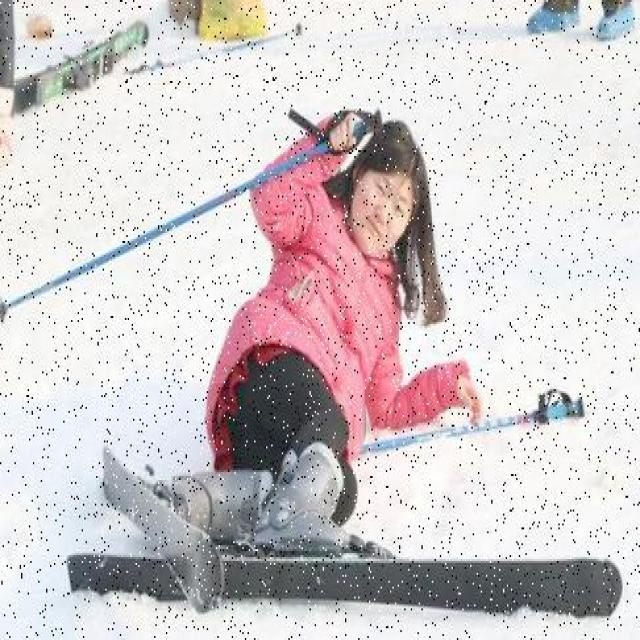fall: (174, 128, 452, 540)
